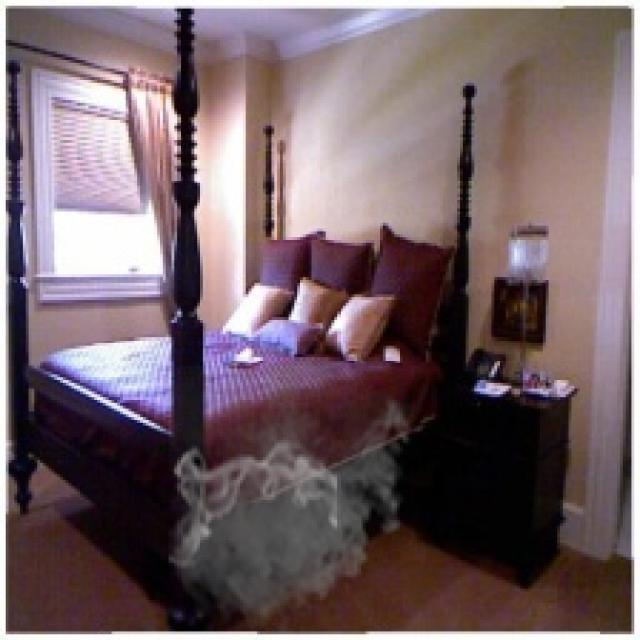Smoke: (166, 366, 420, 638)
